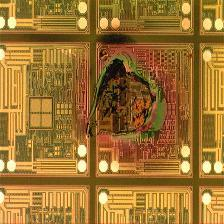PARTICLE: (70, 34, 193, 165)
